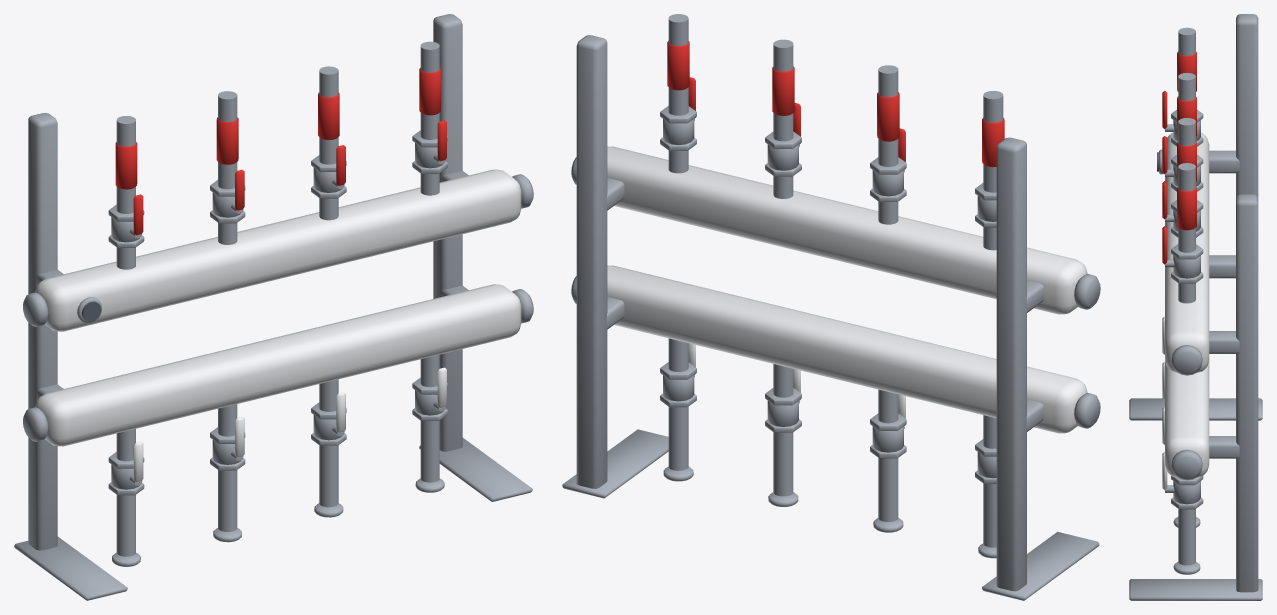
File: heizung.verteiler.glb
3 views of the same model, side by side, from view 1: azimuth 30°, elevation 25°; view 2: azimuth 150°, elevation 25°; view 3: azimuth 270°, elevation 25° (orthographic). The views are drawn at different scales.
Visible parts, largest first — view 1: heizung.verteiler; view 2: heizung.verteiler; view 3: heizung.verteiler.
Boxes of the visible parts, x1,y1,x2,y2 form: heizung.verteiler: [14, 14, 533, 600]; heizung.verteiler: [562, 14, 1100, 600]; heizung.verteiler: [1129, 14, 1262, 600].
Bounding box in the file's own units: 1.18 × 1 × 0.3.
